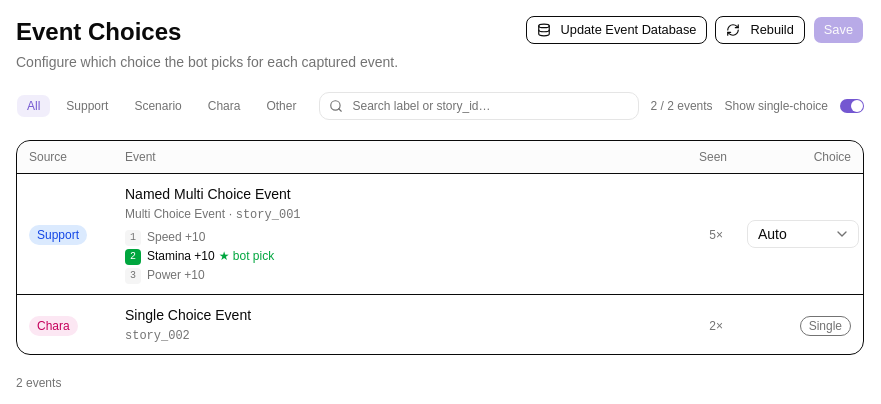
Scenario: Events page › hides single-choice events when toggle is disabled
This screenshot has width=881, height=404.
Expected: the element with test id "event-row-story_001" is shown, [17, 174, 863, 295]
Click the switch named "single".
click(852, 106)  # box [840, 99, 864, 113]
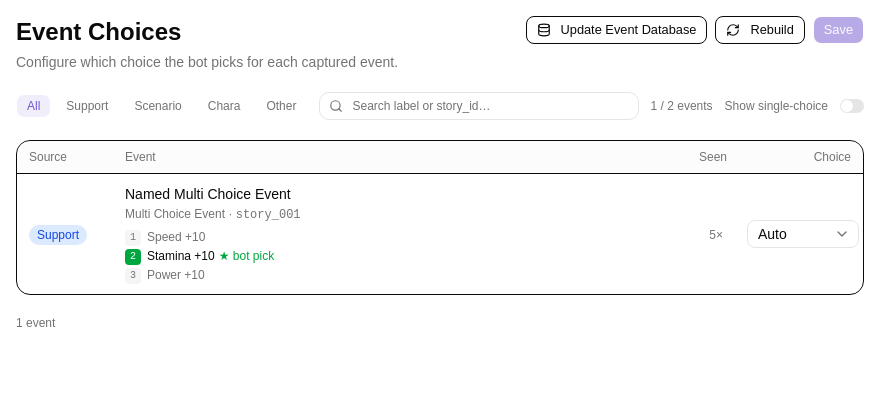
Expected: the text "Named Multi Choice Event" is shown, [125, 186, 291, 202]
Now the text "Single Choice Event" is gone
